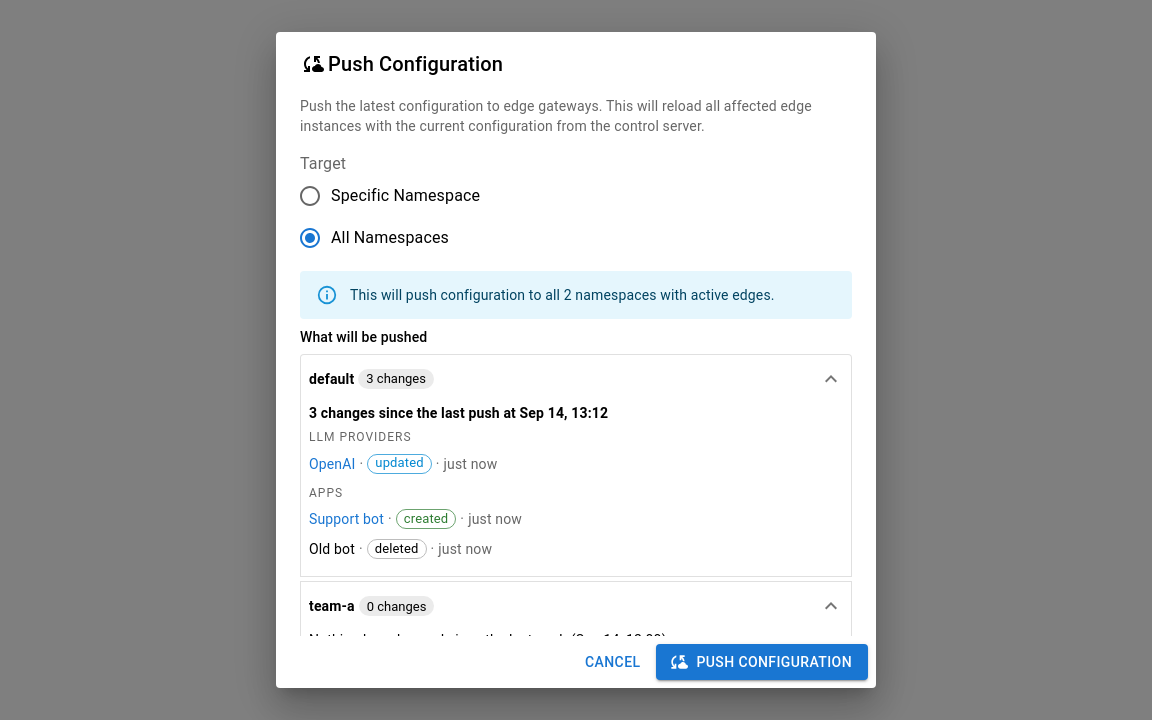
Test: PushConfigurationModal › says which edges failed and why
The image size is (1152, 720).
Expected: the element with test id "pending-changes-default" is shown, [309, 405, 608, 559]
Click the button "Push Configuration": (762, 662) [656, 644, 868, 680]
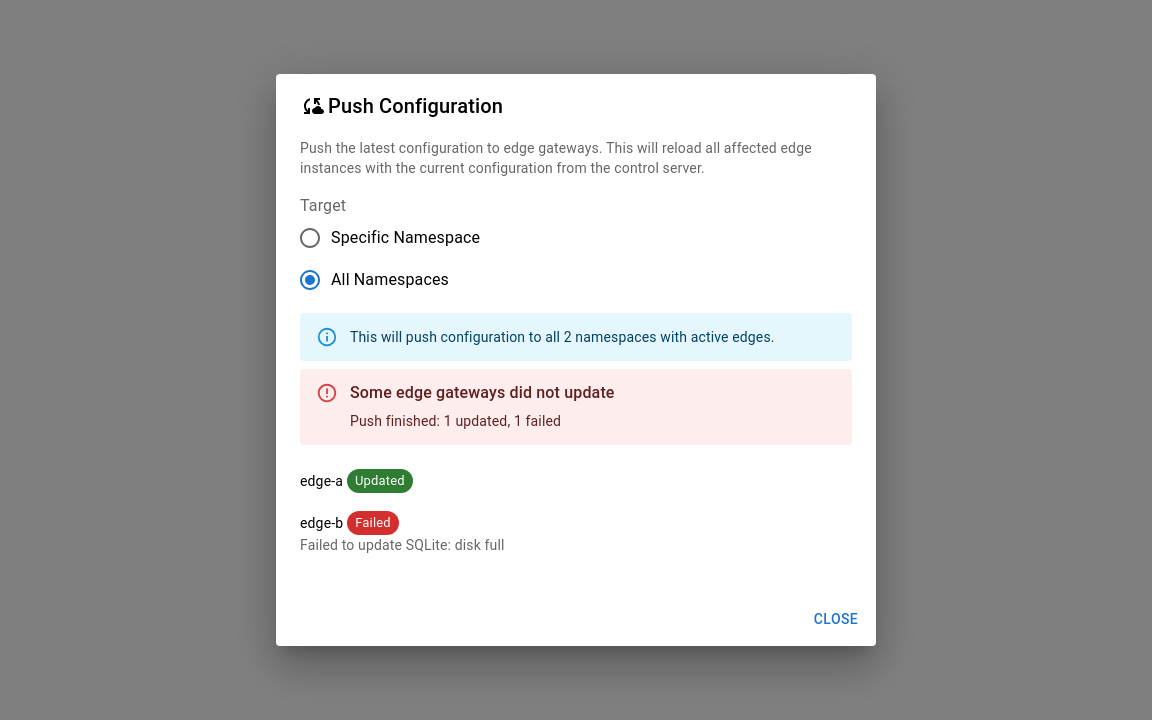
Expected: the text "Some edge gateways did not update" is shown, [350, 382, 615, 406]
Expected: the list item with test id "push-edge-edge-b" shows "Failed", [355, 515, 391, 530]
Expected: the list item with test id "push-edge-edge-b" shows "Failed to update SQLite: disk full", [300, 537, 504, 553]
